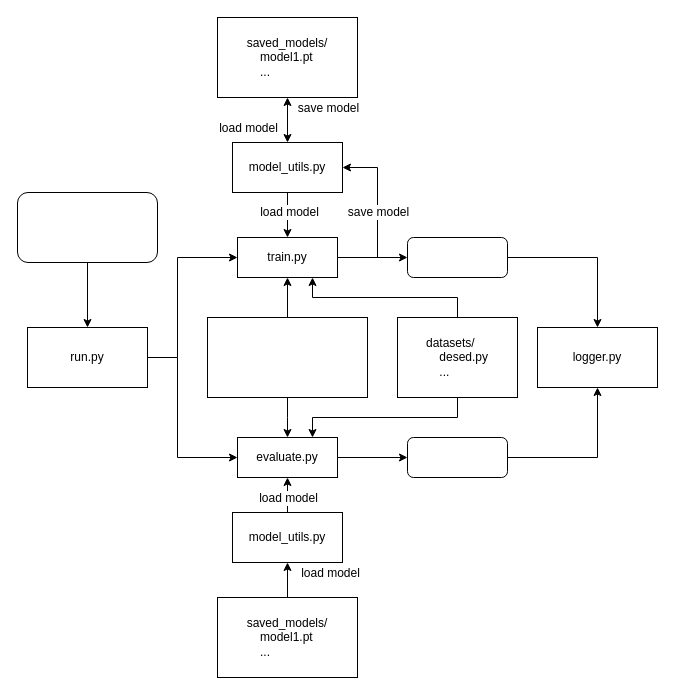
Some shapes in this 675 by 695 pixel diagram are drawn without their labels. The centre of each missing label's shape, as x and y in pixels:
"configuration.py (Global configuration file)" goes at (x=87, y=227).
"models/ (netw. structure) baseline.py preprocess.py (melspec)" goes at (x=287, y=357).
"Results" goes at (x=457, y=457).
"Results from training" goes at (x=457, y=257).
